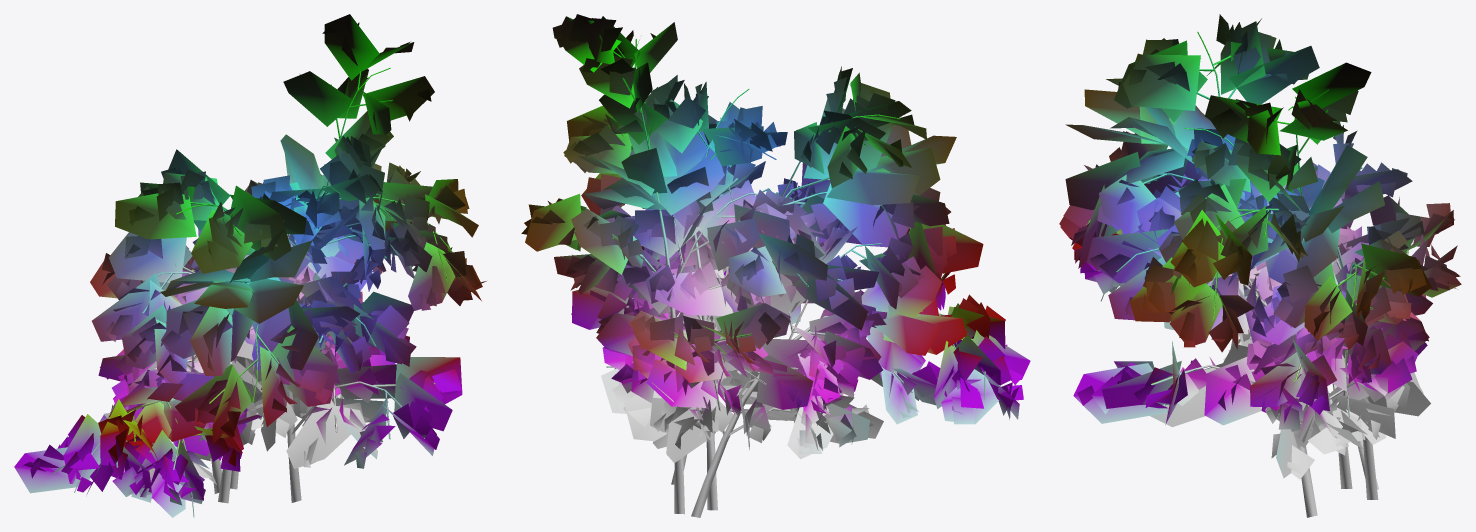
The model's file is arden_forest_hazel_03.fbx.
3 views of the same model, side by side, from view 1: azimuth 30°, elevation 25°; view 2: azimuth 150°, elevation 25°; view 3: azimuth 270°, elevation 25° (orthographic). The views are drawn at different scales.
Parts seen in each view (by area): view 1: arden_forest_hazel_03; view 2: arden_forest_hazel_03; view 3: arden_forest_hazel_03.
Boxes of the visible parts, left/top/right/bottom form: arden_forest_hazel_03: left=14, top=14, right=486, bottom=517; arden_forest_hazel_03: left=521, top=14, right=1030, bottom=517; arden_forest_hazel_03: left=1059, top=14, right=1461, bottom=517.
Bounding box in the file's own units: 5.26 × 3.81 × 5.14.
